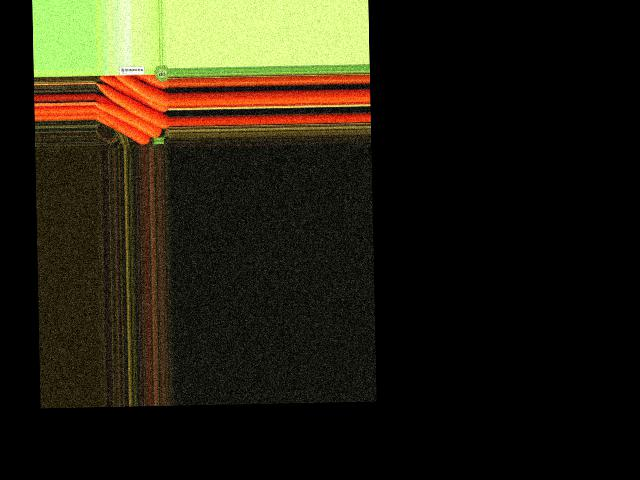carrot: (98, 72, 168, 114)
